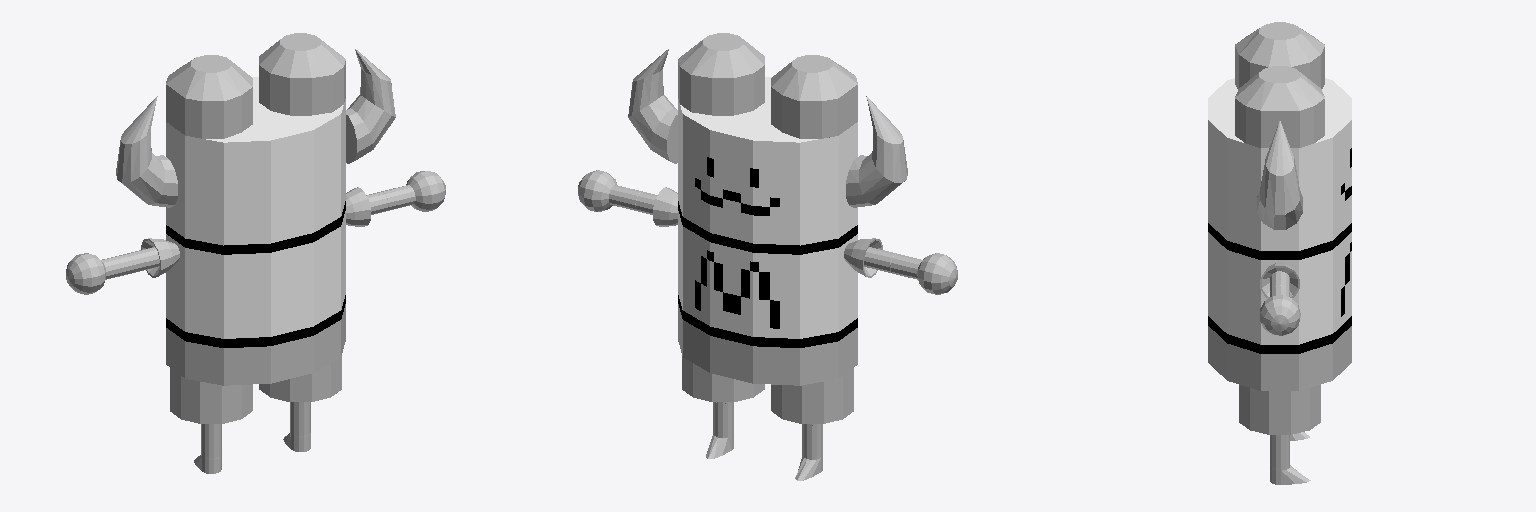
3 views of the same model, side by side, from view 1: azimuth 30°, elevation 25°; view 2: azimuth 150°, elevation 25°; view 3: azimuth 270°, elevation 25° (orthographic).
Parts seen in each view (by area): view 1: body, Head, l, r, Pantleg, lower arm, upper arm, lowerleg; view 2: body, Head, l, r, Pantleg, lower arm, upper arm, lowerleg; view 3: body, Head, r, l, Pantleg, lower arm, lowerleg, upper arm.
Part boxes in pixels (left/top/right/bottom): body: left=166, top=201, right=345, bottom=385; Head: left=166, top=77, right=345, bottom=245; l: left=116, top=55, right=252, bottom=207; r: left=259, top=33, right=395, bottom=163; Pantleg: left=170, top=356, right=341, bottom=424; lower arm: left=66, top=171, right=445, bottom=294; upper arm: left=127, top=187, right=387, bottom=277; lowerleg: left=194, top=402, right=310, bottom=473; body: left=678, top=201, right=857, bottom=385; Head: left=678, top=77, right=857, bottom=245; l: left=771, top=55, right=907, bottom=207; r: left=628, top=33, right=764, bottom=163; Pantleg: left=682, top=356, right=853, bottom=425; lower arm: left=578, top=170, right=957, bottom=294; upper arm: left=636, top=187, right=896, bottom=277; lowerleg: left=706, top=402, right=822, bottom=480; body: left=1208, top=223, right=1351, bottom=390; Head: left=1208, top=78, right=1351, bottom=250; r: left=1235, top=66, right=1324, bottom=229; l: left=1235, top=22, right=1324, bottom=88; Pantleg: left=1239, top=385, right=1320, bottom=435; lower arm: left=1260, top=286, right=1300, bottom=335; lowerleg: left=1270, top=432, right=1310, bottom=484; upper arm: left=1260, top=263, right=1299, bottom=298.
Bounding box in the file's own units: 2.62 × 2.72 × 0.875.
Materials: 11 (2 with a texture image).